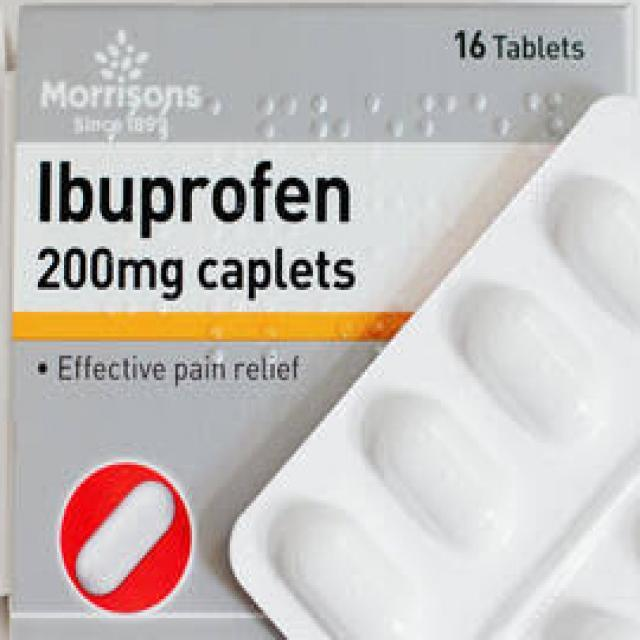drug-name: (30, 153, 358, 244)
